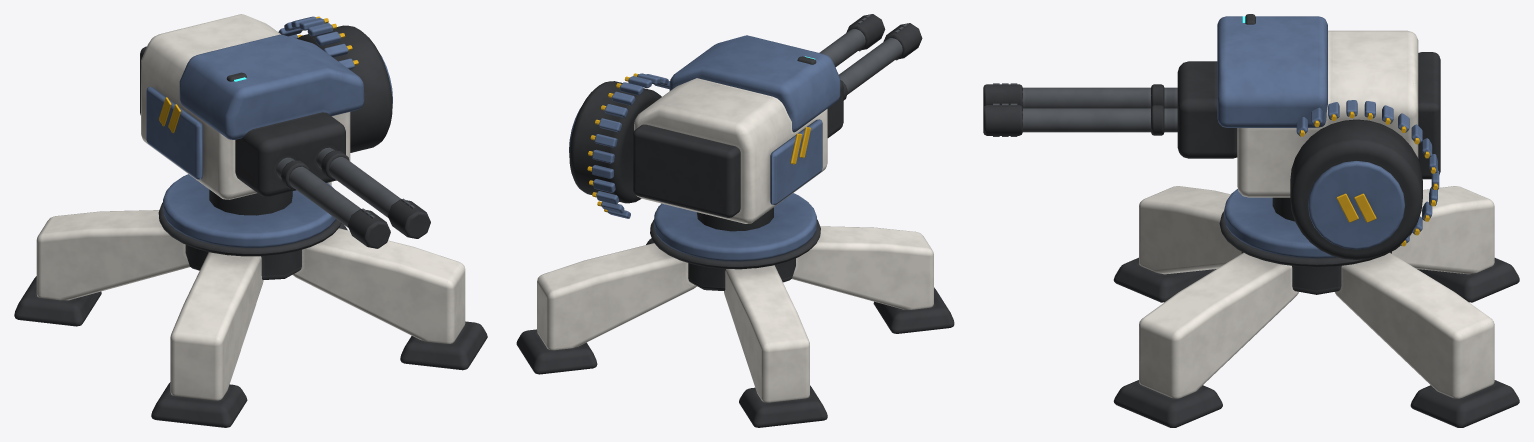
The model's file is kestrel_polar_ceramic.glb.
3 renders of one model, left to right at view 1: azimuth 30°, elevation 25°; view 2: azimuth 150°, elevation 25°; view 3: azimuth 270°, elevation 25°, orthographic. The views are drawn at different scales.
Visible parts, largest first — view 1: Kestrel_Base, Kestrel_Head; view 2: Kestrel_Base, Kestrel_Head; view 3: Kestrel_Head, Kestrel_Base.
Part boxes in pixels (bbox=[...]): Kestrel_Base: bbox=[14, 174, 487, 427]; Kestrel_Head: bbox=[140, 14, 430, 248]; Kestrel_Base: bbox=[516, 193, 954, 427]; Kestrel_Head: bbox=[569, 14, 922, 231]; Kestrel_Head: bbox=[983, 14, 1440, 259]; Kestrel_Base: bbox=[1113, 186, 1519, 427].
Size of the model in its own units: 1.84 by 1.51 by 2.43.
Materials: 6 (5 with a texture image).
